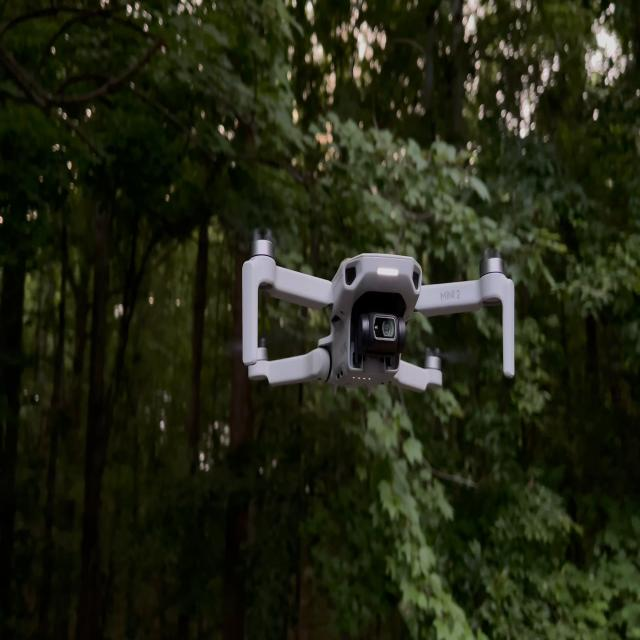Drone: (241, 239, 515, 391)
